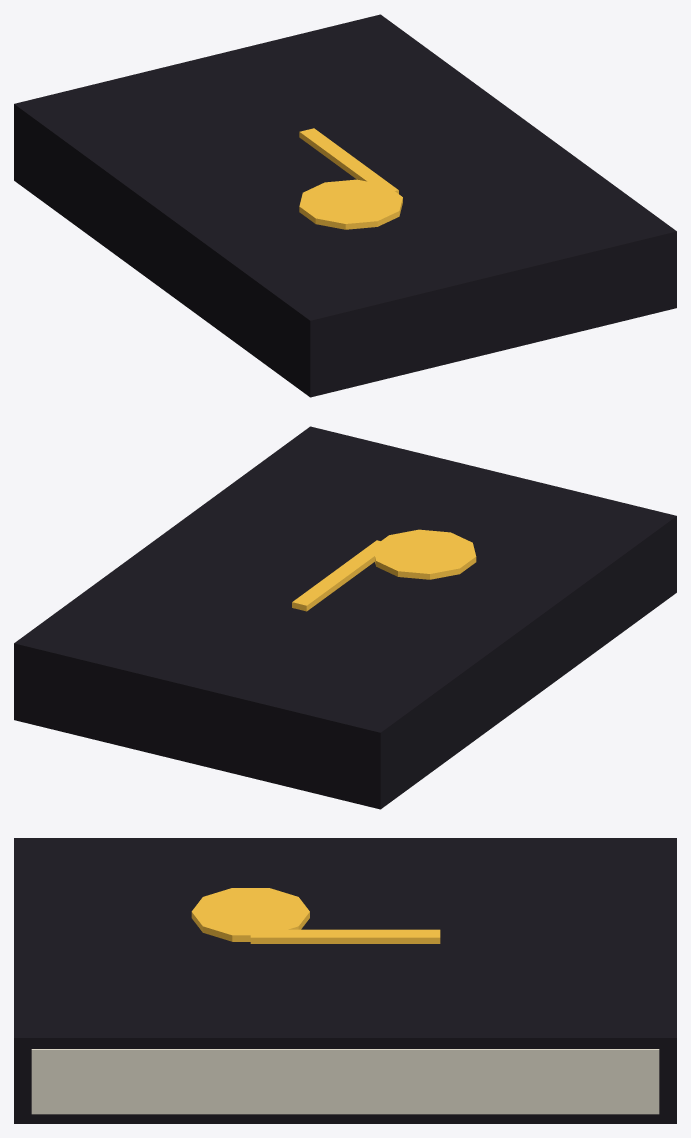
File: songbook.glb
The picture shows the model from 3 angles, top to bottom: view 1: azimuth 30°, elevation 25°; view 2: azimuth 150°, elevation 25°; view 3: azimuth 270°, elevation 25°; orthographic projection. The views are drawn at different scales.
Parts seen in each view (by area): view 1: cover_songbook_cover, note_songbook_gold; view 2: cover_songbook_cover, note_songbook_gold; view 3: cover_songbook_cover, pages_songbook_pages, note_songbook_gold.
Boxes of the visible parts, box(x1,y1,x2,y2) form: cover_songbook_cover: box(14, 14, 676, 397); note_songbook_gold: box(299, 128, 402, 229); cover_songbook_cover: box(14, 426, 676, 809); note_songbook_gold: box(292, 529, 476, 611); cover_songbook_cover: box(14, 838, 676, 1123); pages_songbook_pages: box(31, 1049, 659, 1114); note_songbook_gold: box(191, 888, 440, 943).
Bounding box in the file's own units: 0.201 × 0.043 × 0.28.
